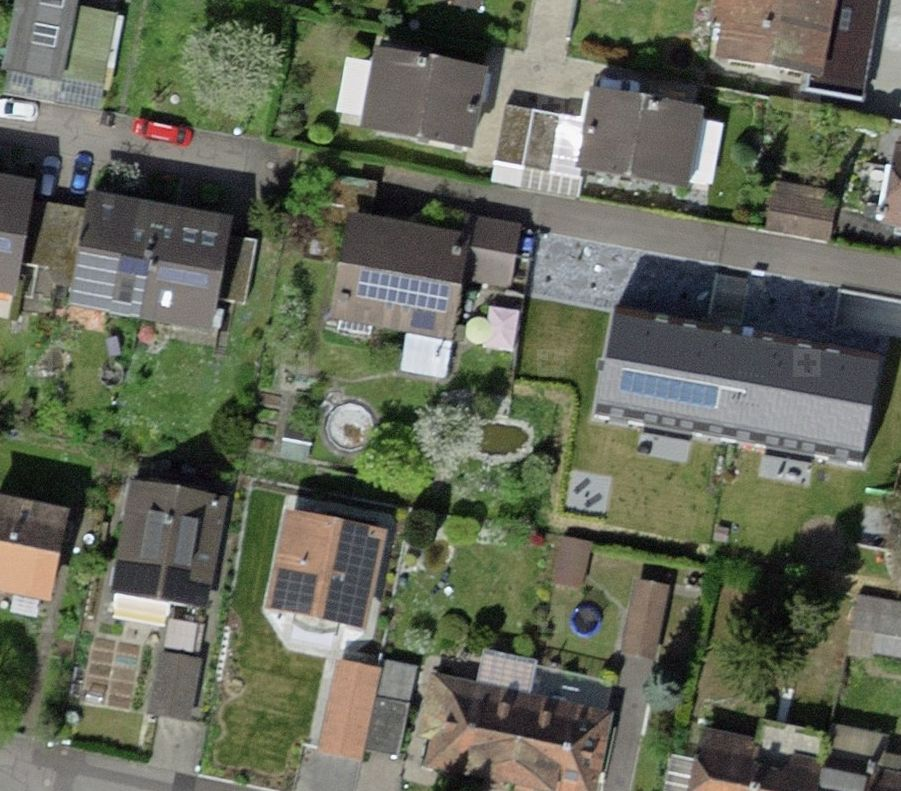solar: (607, 358, 754, 424), (323, 519, 379, 630), (63, 247, 144, 322), (351, 267, 453, 315), (109, 557, 209, 605), (268, 565, 319, 620), (147, 254, 216, 294), (398, 298, 441, 337)
